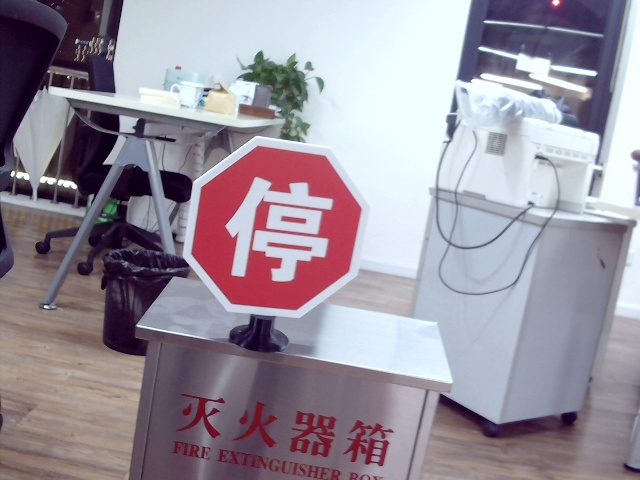stop: (222, 168, 329, 285)
